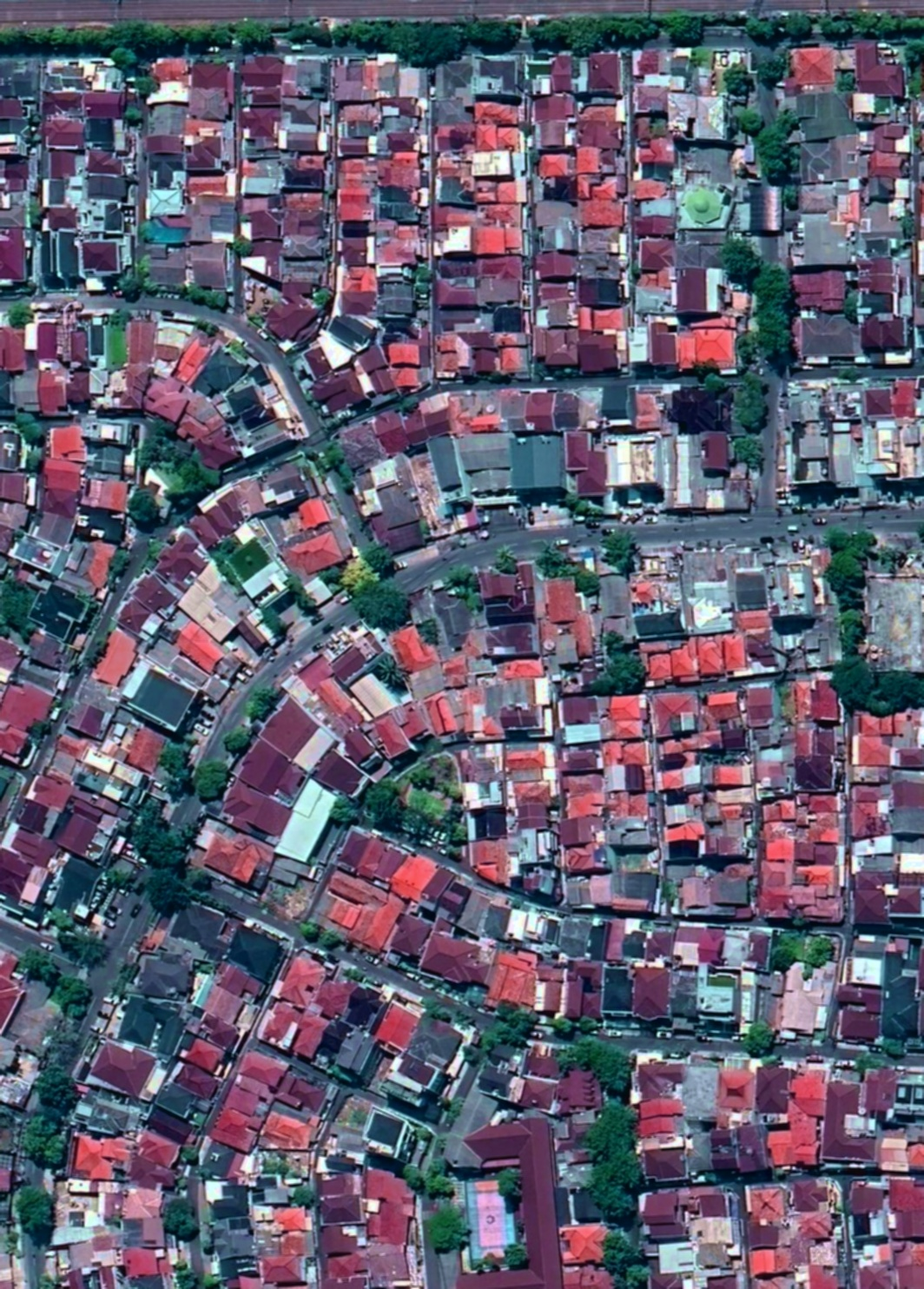building: (456, 1116, 564, 1288), (756, 790, 848, 922), (742, 1175, 848, 1289), (756, 791, 845, 922), (757, 793, 842, 922), (757, 794, 842, 922), (757, 795, 842, 922), (209, 357, 305, 462), (309, 866, 410, 956), (160, 383, 251, 477), (429, 1081, 517, 1177), (657, 429, 752, 515), (173, 560, 259, 645), (766, 1065, 830, 1170), (859, 570, 924, 672), (322, 1089, 400, 1171), (273, 776, 343, 867), (86, 1033, 173, 1105), (62, 739, 150, 810), (124, 663, 204, 736), (180, 478, 258, 552), (333, 823, 413, 894), (232, 736, 309, 809), (1, 978, 72, 1057), (198, 822, 278, 892), (114, 989, 191, 1061), (109, 569, 181, 645), (166, 892, 242, 963), (413, 580, 486, 653), (205, 1180, 258, 1280), (24, 578, 98, 649), (764, 555, 829, 635), (216, 778, 294, 844), (37, 421, 90, 517), (777, 957, 838, 1039), (403, 1009, 475, 1078), (424, 384, 512, 440), (48, 793, 118, 863), (46, 852, 114, 924), (741, 1182, 793, 1276), (671, 923, 774, 970), (97, 710, 169, 776), (69, 1085, 147, 1145), (245, 455, 318, 519), (220, 920, 290, 986), (50, 1176, 110, 1252), (148, 528, 215, 596), (360, 1168, 417, 1247), (418, 930, 494, 989), (257, 695, 323, 762), (259, 285, 325, 351), (493, 818, 564, 879), (880, 937, 922, 1040), (330, 54, 418, 103), (822, 1081, 875, 1161), (280, 525, 353, 582), (347, 660, 411, 725), (348, 885, 408, 954), (257, 1100, 323, 1162), (627, 571, 685, 640), (310, 746, 374, 808), (638, 1185, 704, 1245), (271, 948, 331, 1013), (376, 1058, 441, 1118), (795, 133, 868, 186), (861, 1067, 923, 1128), (358, 1105, 422, 1164), (309, 673, 369, 735), (326, 629, 388, 689), (793, 85, 857, 143), (191, 345, 250, 407), (861, 420, 923, 478), (132, 948, 197, 1003), (169, 618, 230, 676), (322, 300, 382, 358), (397, 391, 460, 446), (68, 1132, 134, 1184), (0, 676, 56, 737), (370, 403, 432, 458), (90, 627, 143, 691), (333, 417, 390, 476), (239, 556, 298, 613), (850, 856, 898, 926), (482, 902, 558, 946), (789, 214, 853, 266), (385, 846, 440, 906), (509, 434, 566, 491), (386, 619, 441, 678), (308, 364, 368, 418), (273, 1067, 335, 1119), (7, 528, 71, 578), (795, 311, 862, 358), (603, 435, 661, 489), (485, 949, 539, 1006), (153, 1077, 212, 1129), (563, 429, 608, 497), (794, 725, 840, 790), (411, 688, 464, 744), (0, 1032, 39, 1108), (168, 329, 219, 387), (668, 92, 729, 140), (145, 306, 199, 360), (484, 672, 553, 714), (337, 981, 390, 1035), (675, 180, 730, 232), (207, 1104, 263, 1155), (669, 387, 731, 433), (454, 428, 516, 474), (789, 676, 843, 728), (372, 997, 423, 1052), (256, 997, 307, 1052), (142, 1102, 200, 1150), (854, 43, 906, 96), (183, 119, 235, 172), (191, 1136, 245, 1187), (754, 725, 795, 792), (122, 1187, 167, 1247), (5, 822, 60, 871), (13, 654, 70, 701), (393, 1051, 451, 1097), (36, 230, 81, 289), (331, 1024, 381, 1077), (336, 725, 386, 778), (123, 1153, 180, 1199), (836, 983, 881, 1041), (232, 606, 282, 658), (308, 970, 357, 1023), (847, 1179, 888, 1242), (425, 432, 466, 495), (472, 1061, 528, 1107), (560, 960, 602, 1021), (675, 327, 736, 369), (386, 909, 435, 961), (196, 980, 249, 1028), (236, 1044, 290, 1091), (291, 724, 339, 776), (577, 175, 624, 227), (792, 269, 848, 312), (74, 503, 130, 546), (375, 480, 423, 530), (122, 724, 169, 775), (373, 181, 425, 227), (137, 243, 189, 289), (848, 783, 890, 839), (307, 328, 357, 375), (651, 691, 702, 737), (171, 1059, 223, 1104), (132, 1127, 184, 1172), (23, 629, 75, 674), (677, 146, 734, 187), (337, 102, 380, 156), (675, 268, 725, 314), (63, 698, 113, 744), (456, 741, 507, 786), (214, 961, 266, 1005), (179, 1033, 231, 1077), (681, 1060, 719, 1120), (76, 537, 118, 591), (188, 195, 236, 242), (74, 673, 124, 718), (26, 769, 76, 814), (194, 1010, 245, 1054), (369, 710, 413, 761), (287, 1009, 330, 1061), (502, 741, 555, 783), (554, 1067, 603, 1112), (849, 784, 889, 839), (186, 242, 230, 292), (632, 965, 671, 1020), (888, 1178, 923, 1239), (753, 1063, 794, 1115), (858, 312, 910, 353), (80, 473, 132, 514), (484, 621, 540, 659), (455, 888, 498, 937), (337, 265, 379, 315), (558, 1102, 599, 1153), (82, 439, 130, 482), (455, 888, 497, 937), (578, 104, 623, 149), (112, 592, 156, 638), (282, 54, 330, 96), (241, 56, 283, 104), (222, 1083, 270, 1124), (28, 508, 77, 548), (381, 519, 431, 558), (367, 1244, 411, 1288), (237, 104, 281, 148), (391, 701, 433, 747), (790, 46, 836, 88), (673, 231, 725, 268), (576, 331, 620, 374), (734, 1122, 771, 1173), (851, 873, 888, 924), (79, 414, 136, 447), (637, 1096, 684, 1136), (472, 56, 520, 95), (0, 953, 23, 1034), (0, 846, 35, 899), (601, 918, 644, 961), (603, 695, 646, 738), (564, 386, 606, 430), (375, 278, 419, 320), (548, 1153, 593, 1194), (533, 327, 578, 368), (560, 1224, 606, 1264), (416, 863, 456, 909), (404, 662, 450, 702), (469, 837, 509, 883), (856, 200, 902, 240), (241, 235, 284, 277), (749, 183, 783, 235), (145, 149, 186, 192), (637, 1061, 683, 1099), (317, 1220, 363, 1258), (295, 652, 337, 693), (636, 136, 676, 179), (291, 493, 333, 533), (241, 155, 283, 195), (377, 150, 421, 188), (544, 579, 581, 624), (654, 762, 706, 794), (436, 56, 472, 102), (279, 257, 326, 292), (789, 1175, 831, 1214), (556, 915, 593, 959), (601, 737, 650, 770), (641, 1146, 687, 1181), (0, 57, 39, 98), (807, 678, 841, 725), (466, 805, 509, 842), (283, 153, 326, 190), (708, 872, 752, 908), (794, 754, 838, 790), (51, 228, 82, 279), (561, 842, 606, 877), (601, 966, 633, 1015), (0, 228, 29, 282), (618, 603, 658, 642), (718, 1069, 755, 1111), (742, 630, 779, 672), (436, 333, 473, 375), (188, 58, 235, 91), (188, 86, 232, 121), (633, 610, 684, 640), (209, 1183, 249, 1221), (143, 382, 183, 420), (636, 1109, 685, 1140), (318, 1193, 364, 1226), (557, 814, 603, 847), (838, 1005, 880, 1041), (690, 595, 732, 631), (630, 388, 666, 430), (806, 1245, 841, 1288), (19, 862, 52, 907), (470, 226, 523, 254), (280, 671, 317, 711), (578, 195, 624, 227), (497, 390, 532, 432), (0, 1152, 21, 1222), (892, 1241, 923, 1288), (568, 612, 599, 659), (467, 465, 514, 496), (747, 1186, 785, 1224), (14, 797, 52, 835), (518, 1075, 558, 1111), (587, 53, 621, 95), (43, 60, 89, 91), (743, 684, 776, 727), (146, 103, 189, 136), (668, 970, 698, 1017), (611, 872, 658, 902), (602, 738, 649, 768), (568, 1185, 603, 1225), (641, 1191, 682, 1225), (733, 569, 767, 610), (80, 240, 121, 274), (857, 257, 895, 293), (854, 1242, 894, 1276), (764, 1128, 797, 1169), (241, 209, 282, 242), (578, 277, 623, 307), (122, 362, 152, 407), (694, 635, 726, 677), (122, 1247, 168, 1276), (649, 321, 678, 367), (599, 574, 630, 617), (533, 118, 576, 149), (657, 1241, 696, 1275), (461, 685, 488, 734), (520, 864, 560, 897), (842, 954, 883, 986), (866, 149, 907, 181), (260, 1255, 305, 1284), (324, 1251, 369, 1280), (577, 250, 622, 279), (126, 319, 155, 364), (277, 124, 322, 153), (830, 433, 856, 483), (233, 1072, 276, 1102), (691, 1216, 737, 1244), (84, 173, 130, 201), (0, 425, 28, 471), (548, 629, 581, 668), (122, 1187, 162, 1219), (0, 721, 29, 765), (462, 780, 504, 810), (42, 117, 84, 147), (0, 327, 28, 372), (37, 371, 67, 413), (675, 876, 712, 910), (848, 1180, 886, 1213), (703, 689, 741, 722), (852, 734, 890, 767), (300, 343, 333, 381), (709, 1128, 738, 1171), (900, 423, 923, 477), (559, 694, 599, 725), (436, 277, 477, 307), (140, 219, 189, 244), (564, 790, 606, 819), (434, 123, 476, 152), (476, 277, 521, 304), (82, 91, 127, 118), (534, 251, 577, 279), (534, 300, 577, 328), (739, 970, 759, 1030), (497, 656, 545, 681), (484, 602, 534, 626), (185, 173, 233, 198), (282, 233, 328, 259), (860, 385, 894, 420), (67, 1266, 121, 1288), (854, 714, 908, 736), (337, 188, 373, 221), (0, 154, 31, 192), (684, 1132, 712, 1174), (511, 779, 553, 807), (604, 763, 646, 791), (317, 1172, 362, 1198), (891, 379, 921, 418), (241, 210, 280, 240), (534, 200, 577, 227), (282, 208, 325, 235), (85, 149, 128, 176), (479, 570, 519, 599), (525, 391, 554, 431), (281, 96, 321, 125), (65, 1239, 100, 1272), (477, 255, 523, 280), (668, 644, 699, 681), (799, 183, 836, 214), (80, 745, 117, 776), (533, 977, 563, 1015), (533, 95, 575, 122), (375, 237, 417, 264), (11, 369, 38, 411), (578, 307, 625, 331), (888, 887, 923, 919), (606, 792, 649, 818), (797, 423, 828, 459), (702, 433, 733, 469), (440, 653, 471, 689), (720, 633, 749, 671), (679, 727, 723, 752), (433, 97, 472, 125), (876, 1137, 908, 1171), (564, 1266, 613, 1288), (67, 1266, 116, 1288), (146, 80, 189, 105), (541, 176, 578, 205), (147, 187, 184, 216), (54, 733, 91, 762), (695, 1241, 733, 1269), (856, 289, 894, 317), (473, 101, 519, 124), (498, 706, 542, 730), (475, 125, 519, 149), (367, 457, 400, 489), (367, 363, 398, 397), (536, 152, 575, 179), (639, 239, 674, 269), (578, 228, 620, 253), (472, 150, 512, 176), (432, 205, 477, 228), (561, 771, 604, 795), (558, 748, 601, 772), (200, 673, 232, 705), (0, 470, 30, 504), (873, 123, 908, 152), (601, 385, 630, 420), (733, 608, 772, 634), (636, 137, 675, 163), (850, 834, 894, 857), (104, 324, 127, 368), (856, 1263, 896, 1288), (697, 986, 734, 1013), (84, 117, 115, 149), (747, 1221, 782, 1249), (388, 365, 423, 393), (798, 1212, 834, 1239), (515, 802, 551, 829), (436, 176, 472, 203), (562, 722, 604, 745), (636, 287, 673, 313), (553, 392, 579, 429), (383, 340, 420, 366), (279, 278, 316, 304), (562, 876, 592, 908), (42, 91, 82, 115), (645, 650, 673, 684), (48, 150, 82, 178), (0, 1253, 27, 1288), (605, 828, 652, 848), (525, 1053, 561, 1079), (793, 458, 829, 484), (890, 807, 923, 835), (633, 85, 667, 112), (540, 226, 578, 250), (153, 57, 188, 83), (66, 369, 92, 404), (632, 215, 675, 236), (481, 202, 522, 224), (713, 763, 752, 786), (759, 860, 791, 888), (399, 65, 427, 97), (551, 55, 575, 92), (504, 907, 530, 941), (713, 786, 755, 807), (273, 1206, 308, 1231), (893, 740, 923, 769), (92, 61, 122, 90), (0, 502, 30, 531), (355, 486, 383, 517), (891, 781, 923, 808), (492, 307, 524, 334), (663, 821, 704, 842), (380, 96, 419, 118), (36, 321, 58, 360), (658, 734, 695, 757), (698, 929, 723, 963), (99, 1191, 124, 1225), (790, 397, 822, 423), (702, 802, 743, 822), (538, 281, 575, 303), (442, 226, 472, 253), (588, 874, 613, 906), (795, 865, 837, 884), (663, 802, 696, 826), (498, 347, 528, 373), (691, 60, 714, 93), (647, 931, 674, 959), (497, 178, 527, 203), (0, 117, 30, 142), (697, 1193, 728, 1217), (639, 196, 674, 217), (68, 328, 89, 363), (340, 237, 366, 265), (439, 259, 477, 278), (0, 1035, 20, 1071), (710, 818, 749, 836), (668, 48, 692, 77), (437, 153, 468, 175), (472, 348, 498, 374), (868, 177, 895, 202), (576, 147, 601, 174), (622, 930, 645, 959), (765, 838, 794, 861), (65, 1177, 98, 1197), (46, 207, 76, 229), (633, 50, 659, 75), (279, 1231, 306, 1255), (668, 840, 698, 861), (693, 580, 728, 598), (721, 726, 747, 750), (835, 391, 861, 415), (43, 179, 66, 206), (128, 1274, 172, 1288), (0, 205, 28, 227), (254, 1187, 290, 1204), (658, 750, 687, 771), (185, 120, 222, 136), (103, 203, 124, 231), (459, 332, 498, 347), (387, 132, 416, 152), (751, 1275, 795, 1288), (396, 1116, 419, 1140), (649, 1272, 683, 1288), (92, 1248, 122, 1266), (624, 764, 644, 791), (89, 368, 108, 395), (899, 852, 923, 873), (663, 864, 696, 879), (90, 1234, 119, 1251), (661, 789, 689, 806), (707, 1274, 738, 1288), (907, 1143, 923, 1169), (395, 224, 420, 240), (855, 932, 878, 948), (436, 334, 455, 353), (517, 392, 526, 416), (386, 1146, 398, 1158), (147, 136, 182, 140), (806, 647, 820, 655), (556, 393, 564, 403), (491, 360, 498, 371), (488, 334, 496, 341), (518, 363, 525, 370)
tree: (115, 798, 206, 885), (581, 1143, 650, 1231), (345, 569, 418, 642), (153, 445, 225, 515), (580, 1095, 645, 1169), (24, 1060, 87, 1123), (823, 649, 881, 717), (137, 860, 197, 922), (861, 665, 924, 722), (132, 415, 189, 477), (749, 300, 798, 370), (714, 232, 768, 295), (18, 1109, 72, 1172), (399, 18, 468, 67), (748, 124, 799, 189), (588, 1225, 645, 1283), (553, 1031, 613, 1080), (599, 644, 651, 699), (340, 5, 392, 57), (37, 1019, 87, 1072), (423, 1201, 471, 1256), (46, 970, 97, 1020), (591, 1045, 639, 1097), (602, 6, 660, 49), (238, 677, 284, 731), (53, 927, 110, 970), (0, 576, 37, 642), (316, 437, 357, 496), (158, 1194, 203, 1247), (489, 1002, 538, 1050), (414, 1156, 461, 1206), (408, 753, 460, 798), (529, 540, 577, 588), (390, 797, 438, 844), (733, 372, 769, 434), (15, 1186, 54, 1243), (752, 265, 795, 316), (758, 934, 804, 980), (375, 13, 420, 60), (462, 18, 520, 54), (358, 537, 402, 584), (14, 946, 64, 987), (824, 549, 866, 597), (332, 553, 377, 597), (564, 13, 610, 56), (281, 578, 322, 626), (217, 718, 261, 762), (738, 1016, 780, 1061), (657, 11, 709, 47), (8, 406, 50, 449), (181, 280, 234, 314), (363, 780, 399, 830), (133, 531, 171, 577), (448, 567, 484, 615), (369, 653, 410, 695), (100, 543, 135, 592), (158, 742, 193, 790), (192, 760, 231, 803), (729, 101, 769, 142), (127, 488, 162, 532), (838, 596, 865, 651), (600, 532, 637, 572), (730, 431, 766, 472), (177, 20, 217, 56), (528, 18, 571, 51), (100, 304, 135, 343), (141, 22, 181, 56), (260, 601, 290, 646), (107, 41, 143, 77), (112, 270, 148, 306), (844, 7, 883, 40), (233, 21, 274, 52), (820, 522, 856, 557), (768, 107, 803, 142), (871, 544, 907, 578), (585, 670, 619, 704), (718, 63, 753, 96), (398, 1159, 430, 1195), (802, 935, 836, 968), (559, 491, 594, 523), (50, 27, 93, 53), (207, 532, 240, 565), (392, 388, 425, 421), (546, 1011, 580, 1043), (781, 10, 816, 41), (112, 23, 148, 53), (128, 69, 161, 101), (572, 561, 600, 598), (598, 627, 629, 660), (494, 1167, 523, 1202), (814, 15, 853, 41), (225, 232, 256, 264), (213, 554, 240, 590), (444, 813, 470, 850), (744, 17, 780, 43), (329, 797, 359, 828), (414, 617, 442, 650), (101, 866, 136, 892), (613, 1263, 649, 1288), (493, 547, 522, 578), (22, 440, 45, 478), (6, 301, 34, 332), (873, 14, 907, 39), (474, 1027, 503, 1056), (700, 369, 730, 397), (134, 257, 155, 297), (877, 1035, 907, 1063), (898, 209, 922, 243), (183, 867, 213, 894), (736, 330, 758, 366), (900, 40, 923, 74), (26, 200, 49, 233), (848, 532, 876, 559), (502, 1241, 527, 1271), (897, 15, 923, 43), (840, 288, 860, 324), (441, 1097, 463, 1129), (92, 26, 118, 53), (328, 21, 354, 48), (295, 918, 322, 944), (573, 1014, 600, 1040), (208, 24, 234, 50), (318, 930, 348, 952), (197, 1238, 222, 1264), (422, 998, 450, 1021), (173, 1265, 201, 1288), (854, 1054, 886, 1074), (449, 1010, 474, 1035), (309, 285, 335, 309), (658, 881, 680, 909), (905, 67, 923, 101), (284, 22, 311, 44), (49, 909, 76, 931), (25, 28, 56, 47), (117, 962, 139, 988), (193, 318, 220, 339), (470, 1254, 497, 1275), (0, 1106, 18, 1136), (317, 567, 342, 588), (781, 184, 799, 213), (0, 27, 23, 49), (292, 1185, 314, 1208), (834, 69, 855, 93), (413, 266, 433, 291), (123, 107, 145, 128), (341, 966, 364, 984), (179, 1147, 198, 1166), (462, 1044, 479, 1064), (760, 1056, 782, 1070), (432, 1134, 446, 1156), (416, 1128, 433, 1146), (37, 1276, 61, 1288), (203, 1275, 221, 1288)
